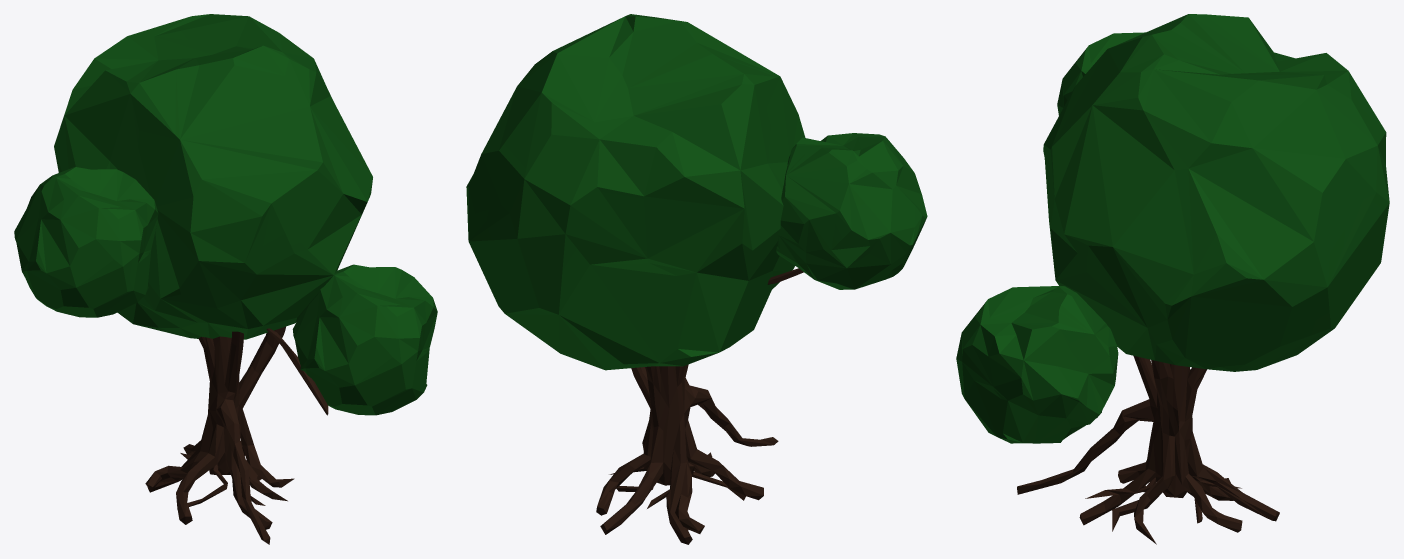
Rendered from SM_tree_23.fbx.
3 renders of one model, left to right at view 1: azimuth 30°, elevation 25°; view 2: azimuth 150°, elevation 25°; view 3: azimuth 270°, elevation 25°, orthographic. The views are drawn at different scales.
Parts seen in each view (by area): view 1: tree_23; view 2: tree_23; view 3: tree_23.
Part boxes in pixels (x1,y1,x2,y2): tree_23: (14,14,437,544); tree_23: (466,14,927,544); tree_23: (956,14,1389,544).
Bounding box in the file's own units: 1344 × 1588 × 1273.
